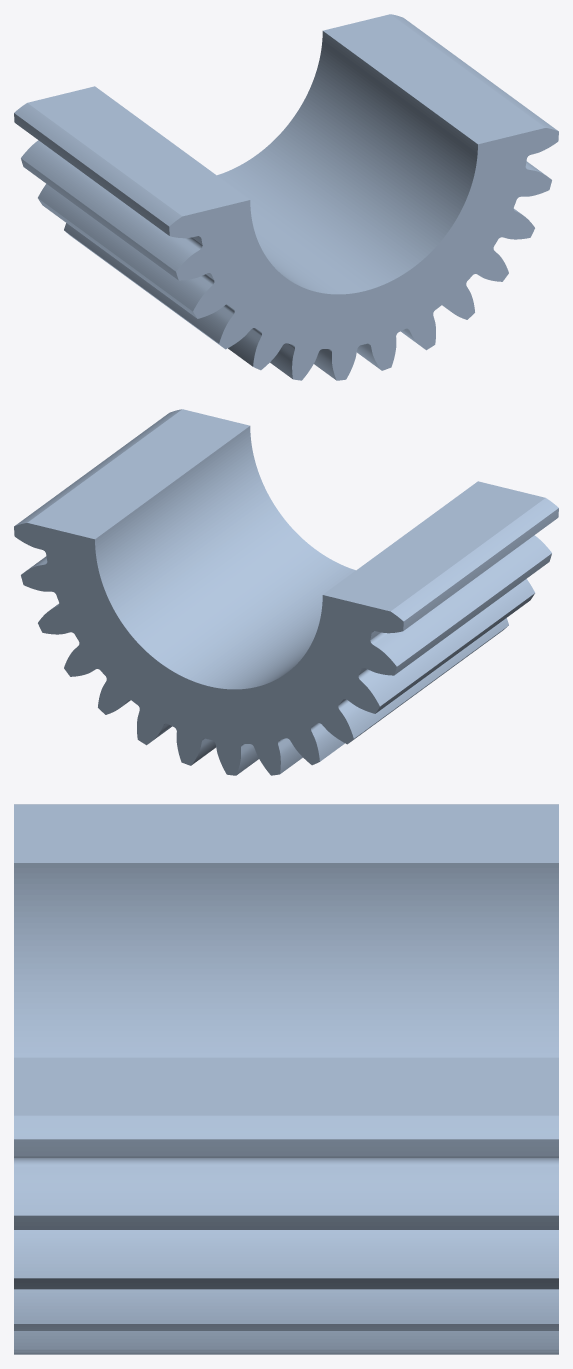
The model's file is zupcanik_korman_potenciometar.obj.
3 views of the same model, one above another, from view 1: azimuth 30°, elevation 25°; view 2: azimuth 150°, elevation 25°; view 3: azimuth 270°, elevation 25° (orthographic). The views are drawn at different scales.
Visible parts, largest first — view 1: zupcanik_korman_potenciometar; view 2: zupcanik_korman_potenciometar; view 3: zupcanik_korman_potenciometar.
Boxes of the visible parts, box(x1,y1,x2,y2) form: zupcanik_korman_potenciometar: box(14, 14, 558, 380); zupcanik_korman_potenciometar: box(14, 409, 558, 775); zupcanik_korman_potenciometar: box(14, 804, 558, 1354).
Bounding box in the file's own units: 43.47 × 21.66 × 30.
